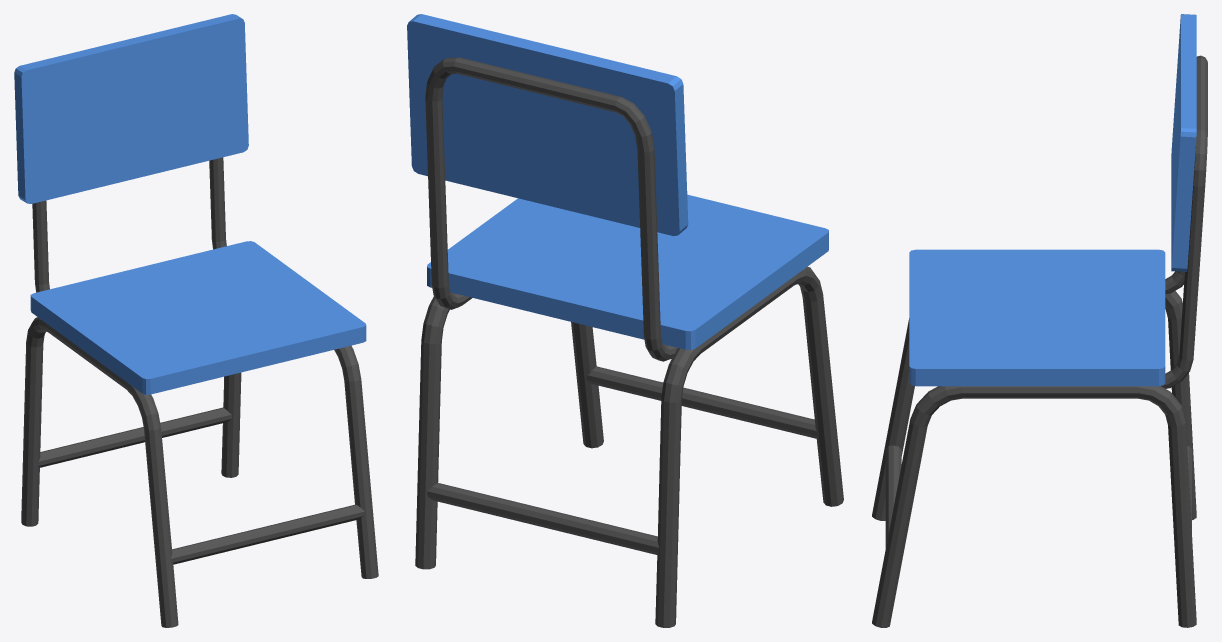
The model's file is Chair_12a.fbx.
3 renders of one model, left to right at view 1: azimuth 30°, elevation 25°; view 2: azimuth 150°, elevation 25°; view 3: azimuth 270°, elevation 25°, orthographic. The views are drawn at different scales.
Visible parts, largest first — view 1: Chair_12a; view 2: Chair_12a; view 3: Chair_12a.
Boxes of the visible parts, x1,y1,x2,y2 form: Chair_12a: [14, 14, 378, 627]; Chair_12a: [407, 14, 843, 627]; Chair_12a: [872, 14, 1207, 627].
Bounding box in the file's own units: 0.4463 × 0.8735 × 0.5309.
